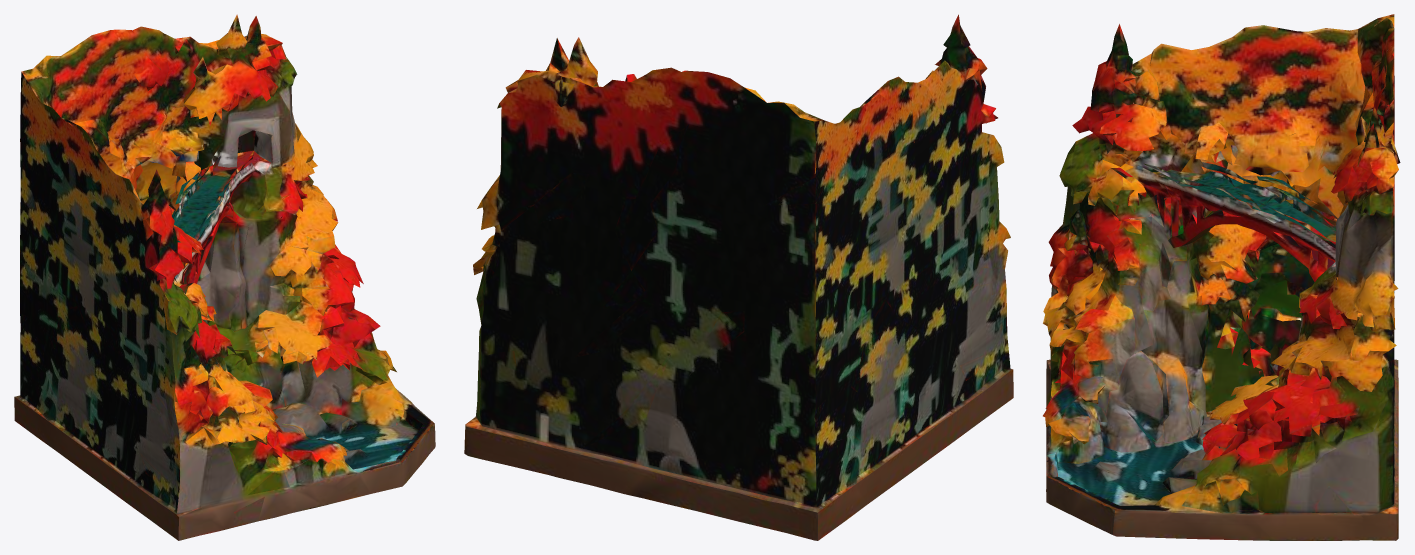
The model's file is naruko-gorge.glb.
3 renders of one model, left to right at view 1: azimuth 30°, elevation 25°; view 2: azimuth 150°, elevation 25°; view 3: azimuth 270°, elevation 25°, orthographic. The views are drawn at different scales.
Visible parts, largest first — view 1: logan-textured.obj; view 2: logan-textured.obj; view 3: logan-textured.obj.
Part boxes in pixels (box(x1,y1,x2,y2)): logan-textured.obj: box(14, 14, 435, 540); logan-textured.obj: box(464, 14, 1013, 540); logan-textured.obj: box(1043, 14, 1400, 540).
Size of the model in its own units: 0.8699 by 1 by 0.8207.
1 material, 1 textured.
